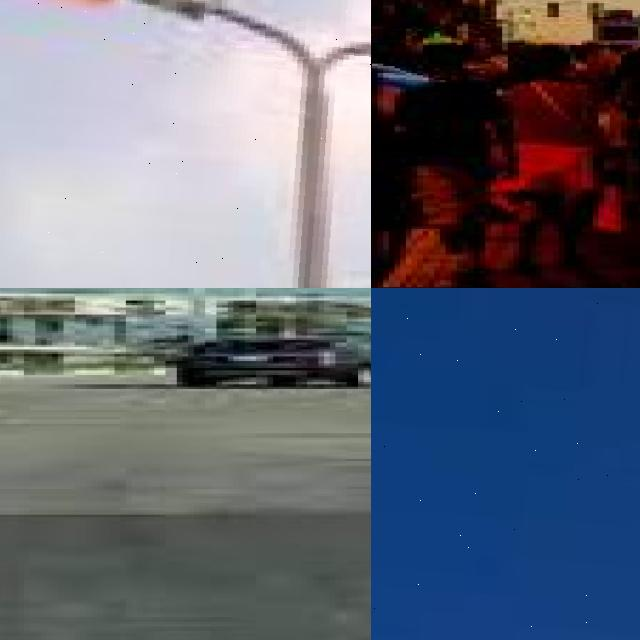street light: (0, 0, 371, 288), (371, 288, 640, 640), (377, 0, 439, 51)
